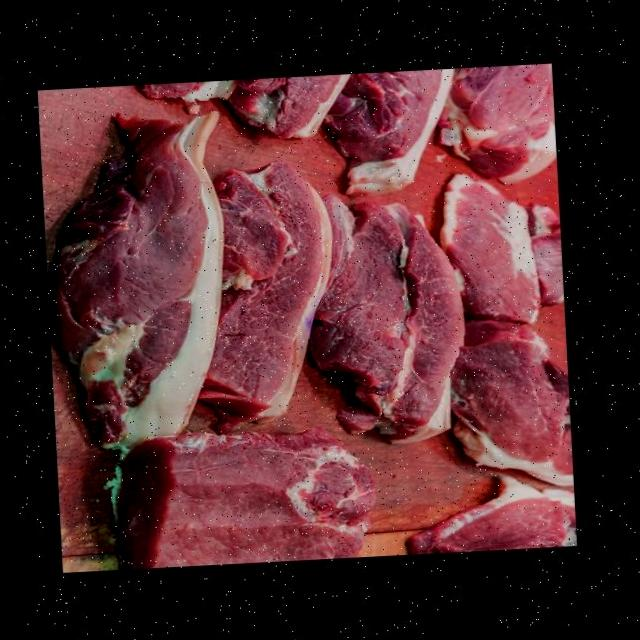pork: (52, 128, 201, 434), (102, 426, 380, 572), (324, 192, 473, 454), (204, 160, 340, 414), (422, 168, 546, 340), (120, 76, 343, 162), (462, 319, 574, 486), (441, 62, 561, 216), (330, 69, 460, 197), (397, 476, 577, 552)
